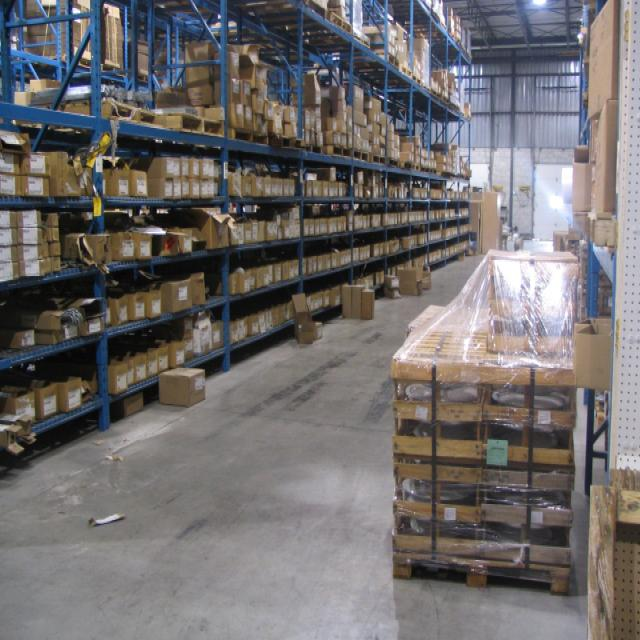box contants: (158, 364, 204, 404), (289, 291, 321, 341)
boxs: (104, 268, 205, 325), (1, 207, 60, 281), (126, 156, 219, 196), (353, 84, 385, 156), (471, 191, 497, 248), (340, 280, 373, 319), (301, 208, 346, 233)
ceiling beam: (443, 0, 580, 60)
floor -X: (0, 233, 613, 636)
gate number: (532, 164, 572, 236)
merchandise: (390, 253, 575, 591)
shelves crop: (1, 0, 469, 452), (569, 0, 638, 637)
wall clock: (469, 55, 578, 239)
